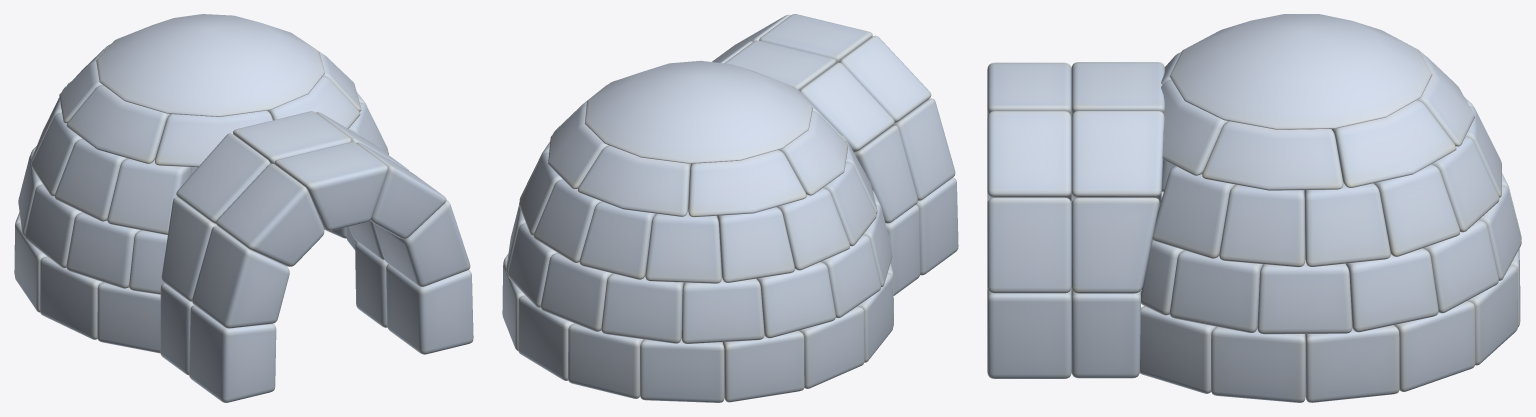
File: lglooUnity.fbx
3 views of the same model, side by side, from view 1: azimuth 30°, elevation 25°; view 2: azimuth 150°, elevation 25°; view 3: azimuth 270°, elevation 25° (orthographic). The views are drawn at different scales.
Parts seen in each view (by area): view 1: igloo; view 2: igloo; view 3: igloo.
Part boxes in pixels (x1,y1,x2,y2): igloo: (14, 14, 473, 402); igloo: (502, 14, 958, 402); igloo: (987, 14, 1521, 402).
Bounding box in the file's own units: 260 × 180 × 311.
